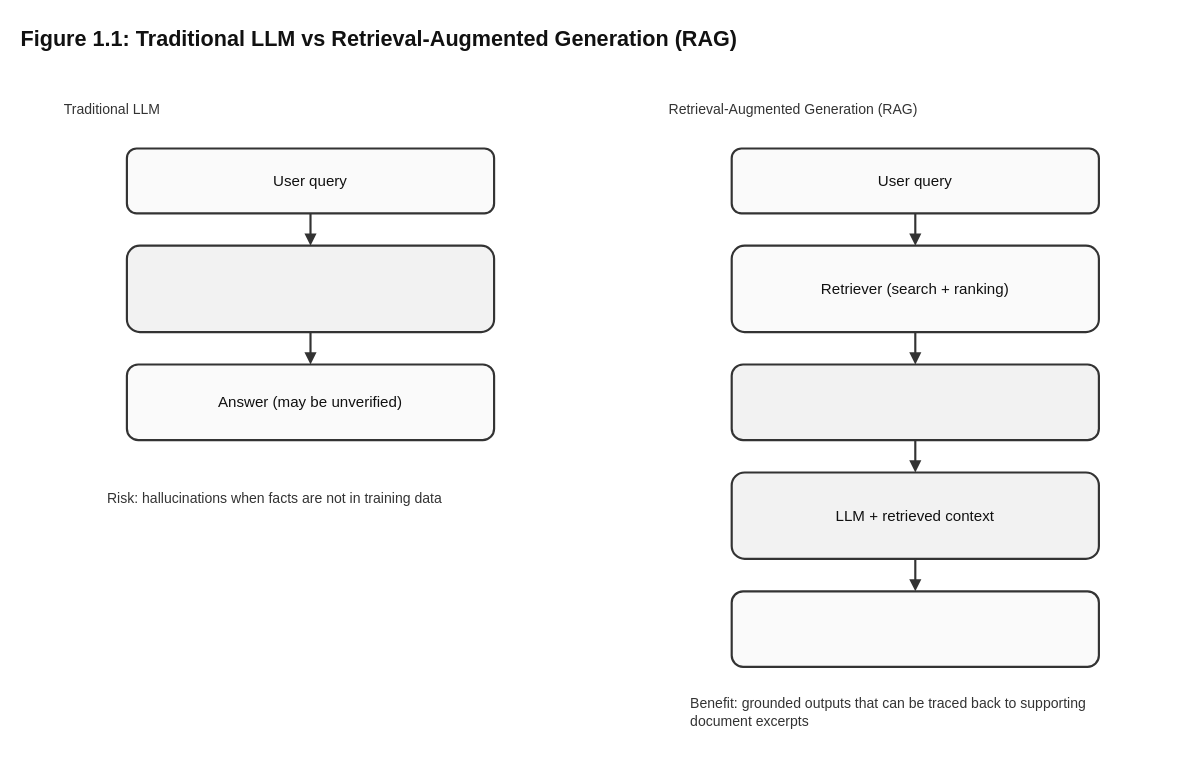
Image size: 1203x771. Some labels were removed from this diagram. Each missing label, with the centre of its shape:
"Answer with citations" belongs at point (914, 628).
"Document corpus / vector database" belongs at point (914, 402).
"LLM" belongs at point (310, 288).
